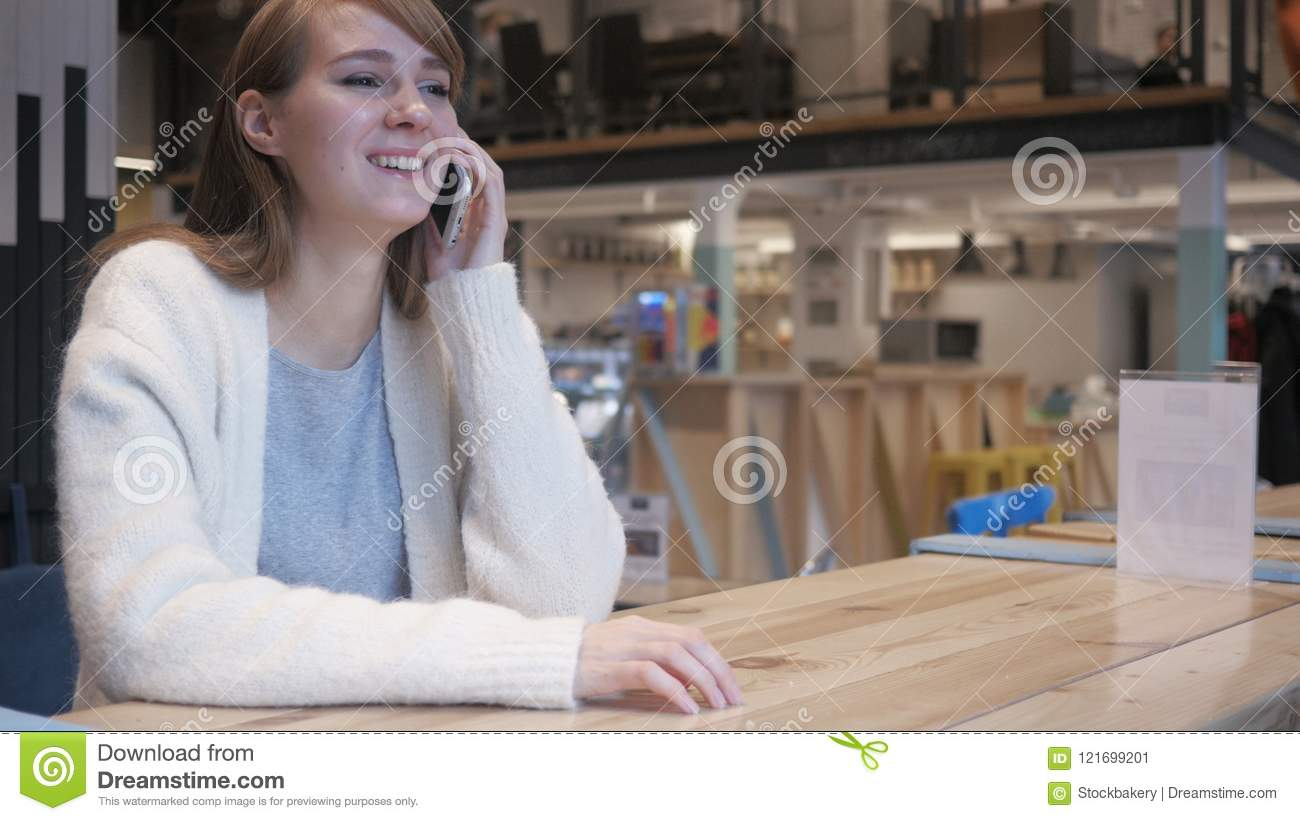phone: (428, 154, 475, 252)
talk: (322, 39, 510, 275)
